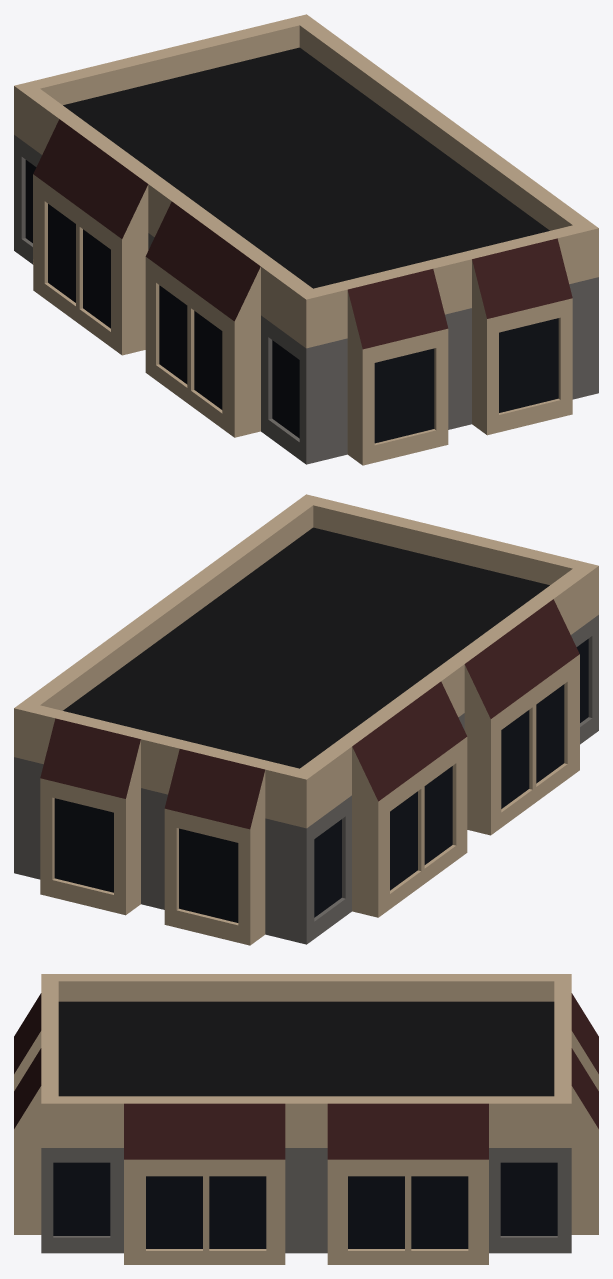
The model's file is buildingA1.obj.
The picture shows the model from 3 angles, top to bottom: view 1: azimuth 30°, elevation 25°; view 2: azimuth 150°, elevation 25°; view 3: azimuth 270°, elevation 25°; orthographic projection. The views are drawn at different scales.
Visible parts, largest first — view 1: Cube.007_Cube.026; view 2: Cube.007_Cube.026; view 3: Cube.007_Cube.026.
Part boxes in pixels (x1,y1,x2,y2): Cube.007_Cube.026: [14, 14, 598, 465]; Cube.007_Cube.026: [14, 494, 598, 945]; Cube.007_Cube.026: [14, 974, 598, 1264].
Bounding box in the file's own units: 8.94 × 4.08 × 14.47.
